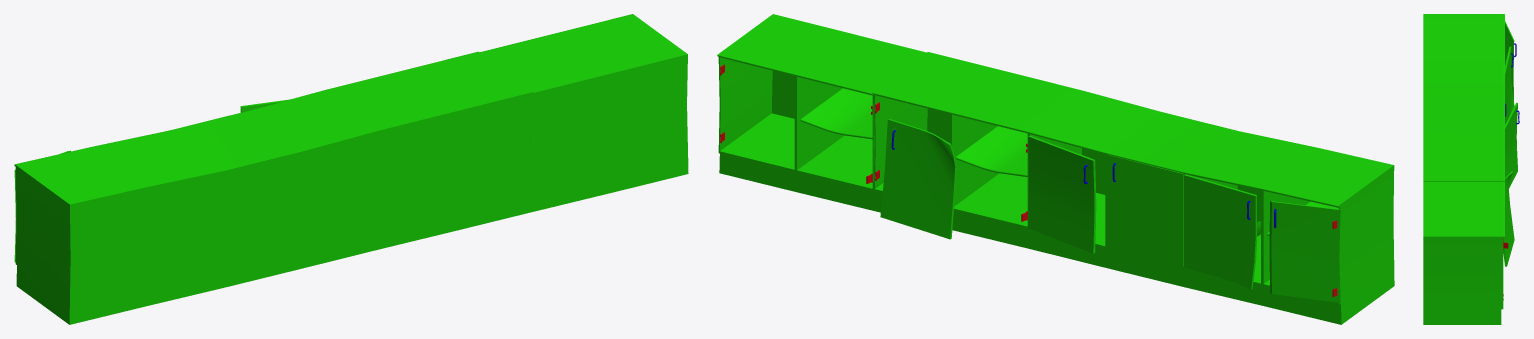
File: Cupboard1Extend.fbx
3 views of the same model, side by side, from view 1: azimuth 30°, elevation 25°; view 2: azimuth 150°, elevation 25°; view 3: azimuth 270°, elevation 25° (orthographic). The views are drawn at different scales.
Parts seen in each view (by area): view 1: Shelves_LP; view 2: Shelves_LP; view 3: Shelves_LP.
Boxes of the visible parts, <box> form: Shelves_LP: <box>14,14,688,324</box>; Shelves_LP: <box>717,14,1394,324</box>; Shelves_LP: <box>1423,14,1519,324</box>.
Bounding box in the file's own units: 1349 × 253 × 247.
